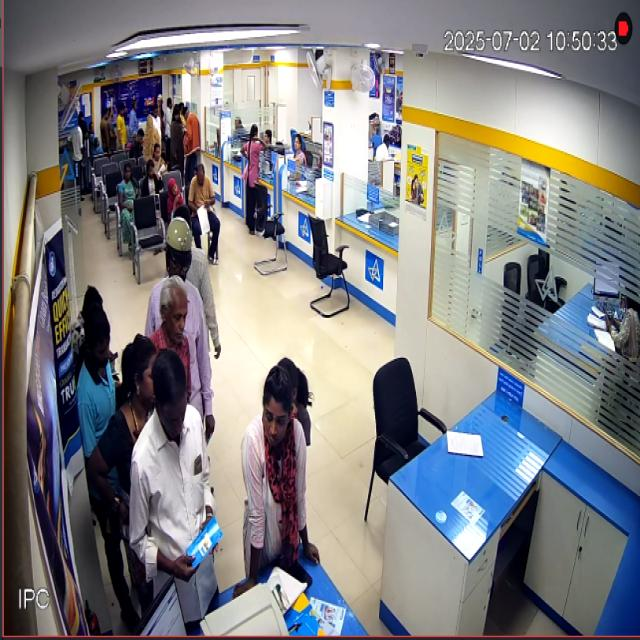helmet: (165, 217, 192, 282)
no_helmet: (116, 334, 157, 432), (151, 350, 187, 438), (262, 365, 292, 447), (159, 275, 188, 345), (84, 301, 110, 369), (168, 178, 180, 196), (197, 164, 205, 186), (124, 162, 131, 181)
